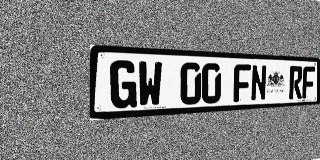0: (180, 62, 201, 105), (201, 63, 221, 104)
F: (233, 64, 251, 102), (302, 66, 315, 99)
G: (110, 60, 137, 109)
N: (250, 64, 267, 101)
R: (289, 66, 303, 99)
W: (138, 61, 162, 107)
